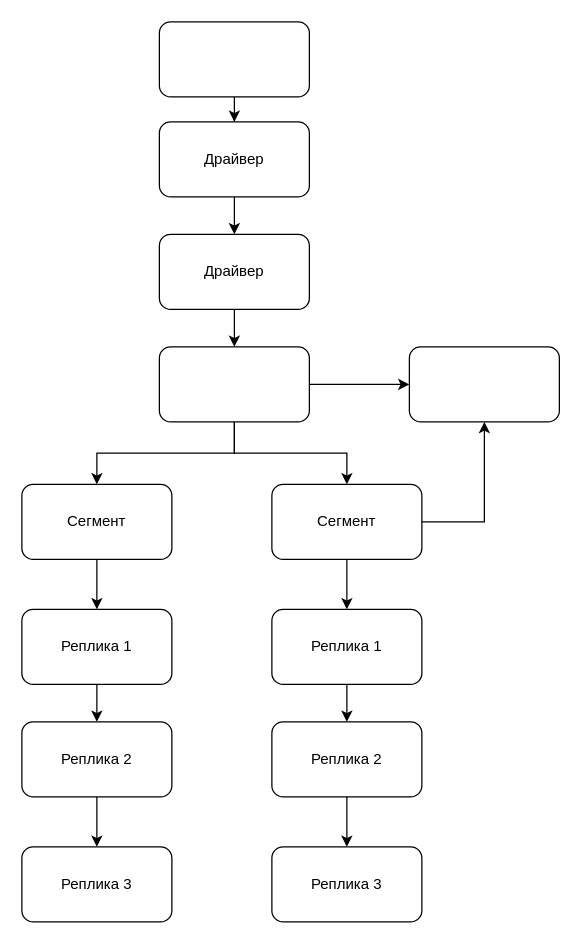
Some shapes in this 581 by 944 pixel diagram are drawn without their labels. The shapes that lost their labels are listed below. From the top down, each one's box as (x1, y1, x2, y2) in pixels, then its label:
(158, 21, 309, 97): pymongo-api
(158, 346, 309, 422): Роутер
(408, 346, 559, 422): Сервер конфигураций
